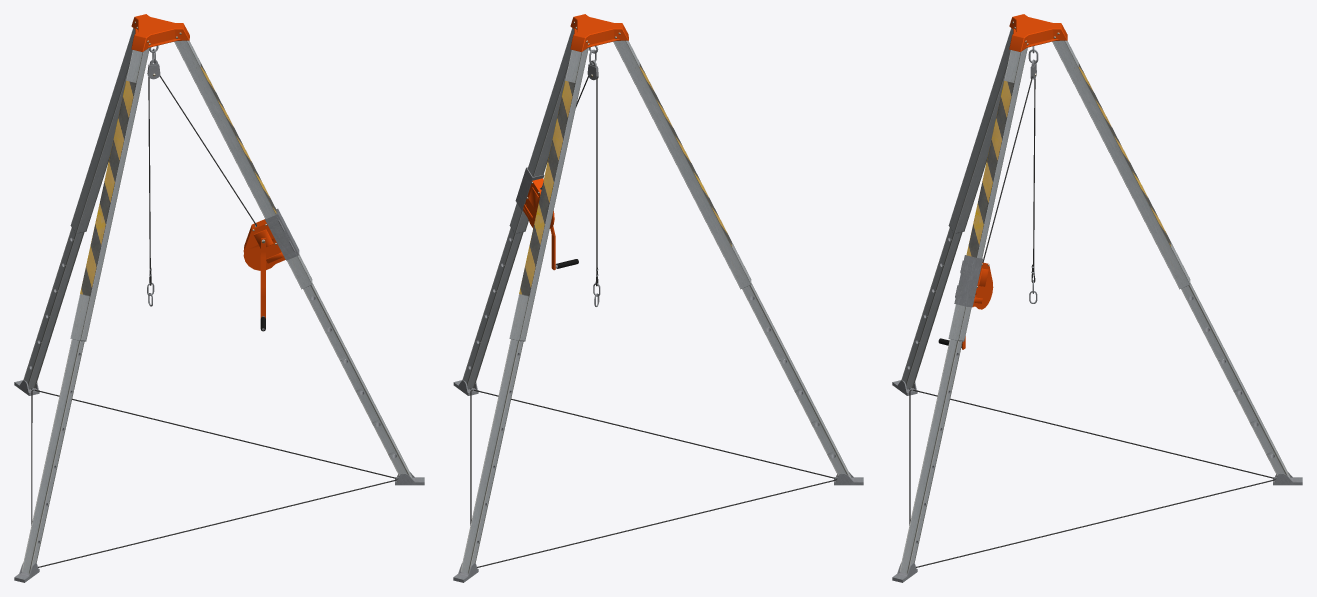
File: tripod.FBX
The picture shows the model from 3 angles, left to right: view 1: azimuth 30°, elevation 25°; view 2: azimuth 150°, elevation 25°; view 3: azimuth 270°, elevation 25°; orthographic projection.
Visible parts, largest first — view 1: Box017, Box014, Box016, Line004, Cylinder001, Cylinder017, Box020, tripod, Line003; view 2: Box016, Box017, Box014, Line004, Cylinder001, Cylinder017, tripod; view 3: Box014, Box016, Box017, Line004, Cylinder001, Box020, Line003, Cylinder017.
Boxes of the visible parts, <box> form: Box017: <box>14,47,149,582</box>; Box014: <box>174,40,424,485</box>; Box016: <box>14,28,135,395</box>; Line004: <box>31,389,397,567</box>; Cylinder001: <box>131,14,189,52</box>; Cylinder017: <box>243,219,285,270</box>; Box020: <box>265,208,299,260</box>; tripod: <box>147,59,265,331</box>; Line003: <box>148,75,256,285</box>; Box016: <box>453,47,588,582</box>; Box017: <box>613,40,863,485</box>; Box014: <box>453,28,574,395</box>; Line004: <box>470,389,836,567</box>; Cylinder001: <box>570,14,628,53</box>; Cylinder017: <box>523,178,554,228</box>; tripod: <box>550,60,598,270</box>; Box014: <box>892,47,1027,582</box>; Box016: <box>1052,40,1302,485</box>; Box017: <box>892,28,1013,395</box>; Line004: <box>909,389,1275,567</box>; Cylinder001: <box>1009,14,1067,53</box>; Box020: <box>954,255,982,307</box>; Line003: <box>982,76,1035,282</box>; Cylinder017: <box>972,262,993,309</box>.
Bounding box in the file's own units: 1.97 × 2.1 × 1.71.
